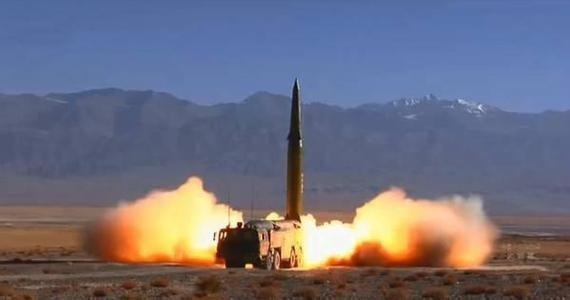fire: (294, 184, 498, 268), (99, 175, 247, 267)
